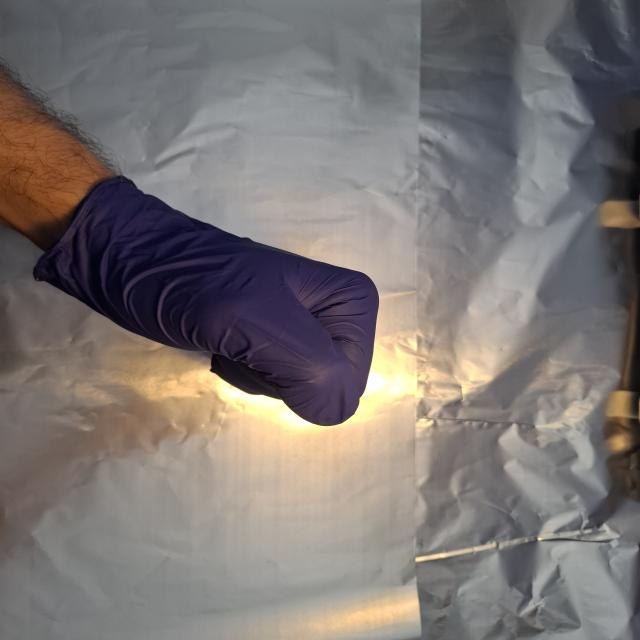glove_on: (38, 178, 383, 429)
